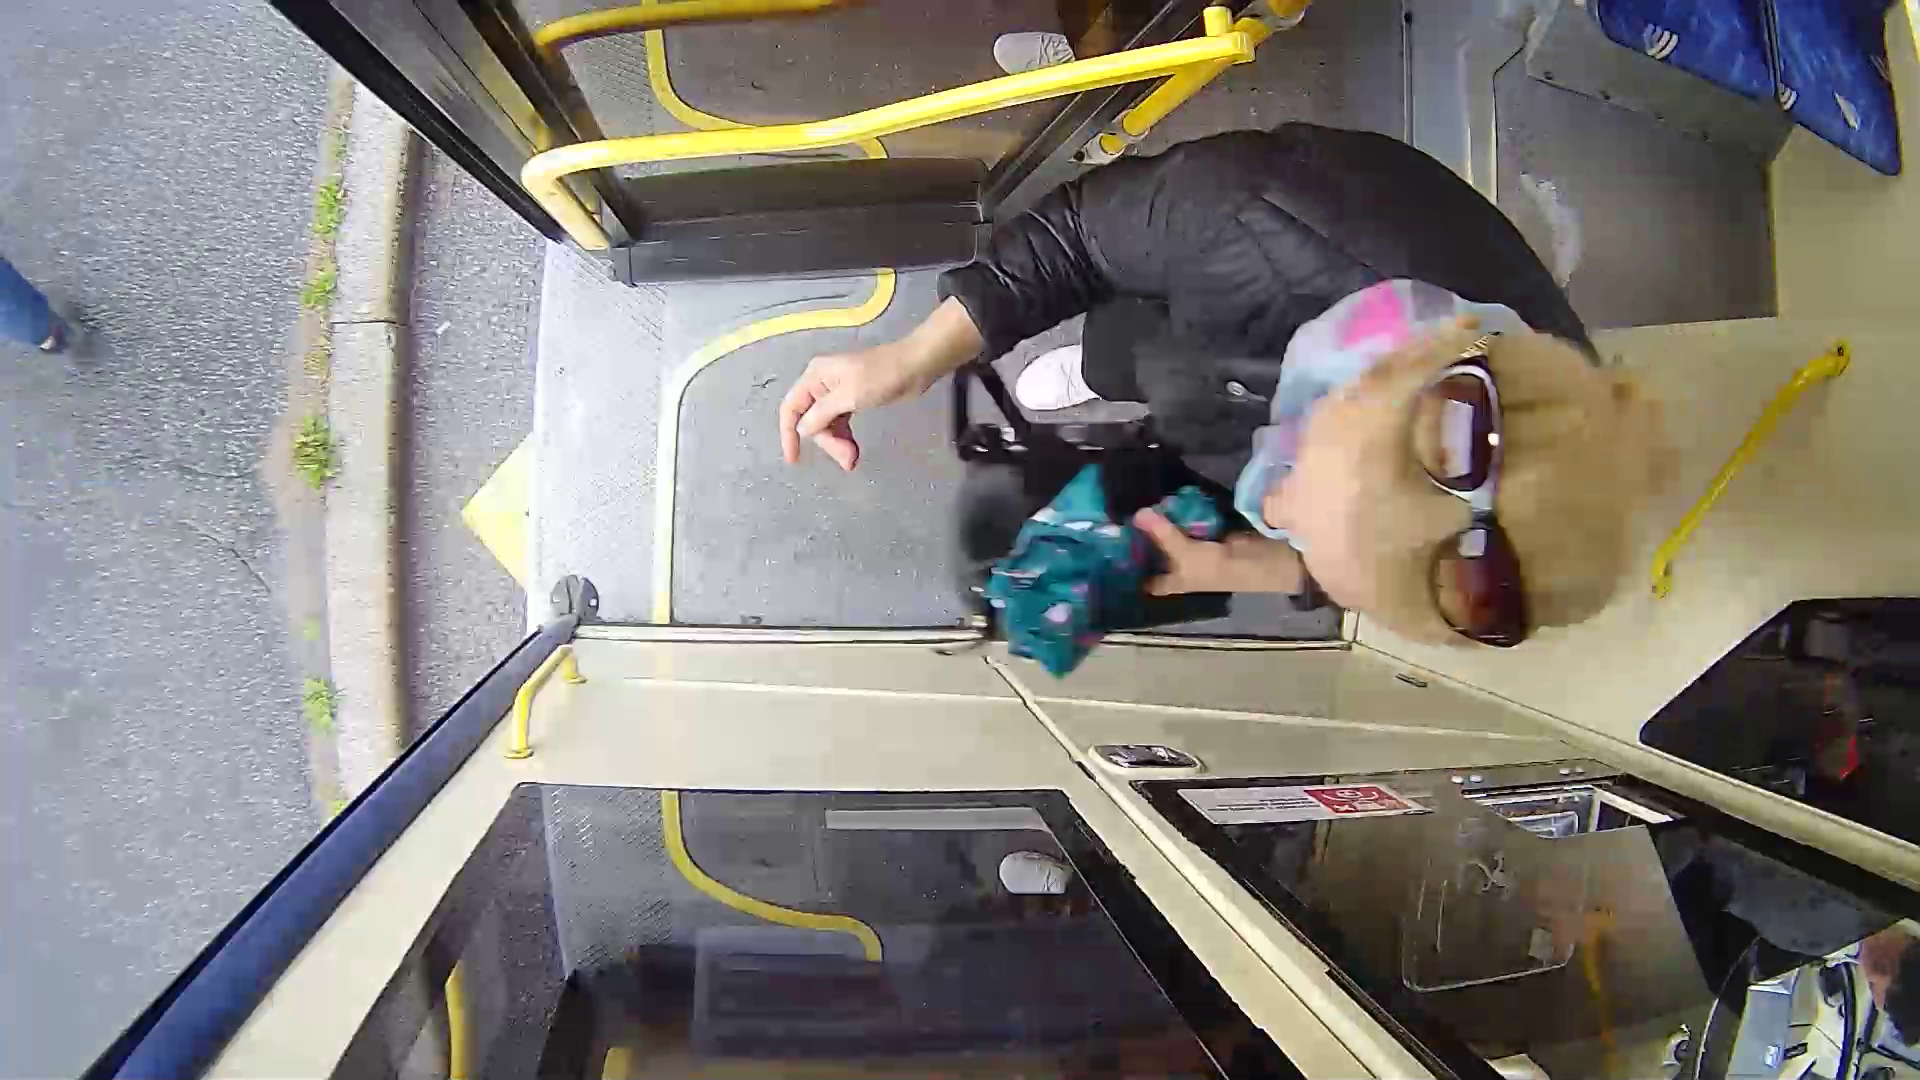person: (827, 95, 1669, 722)
